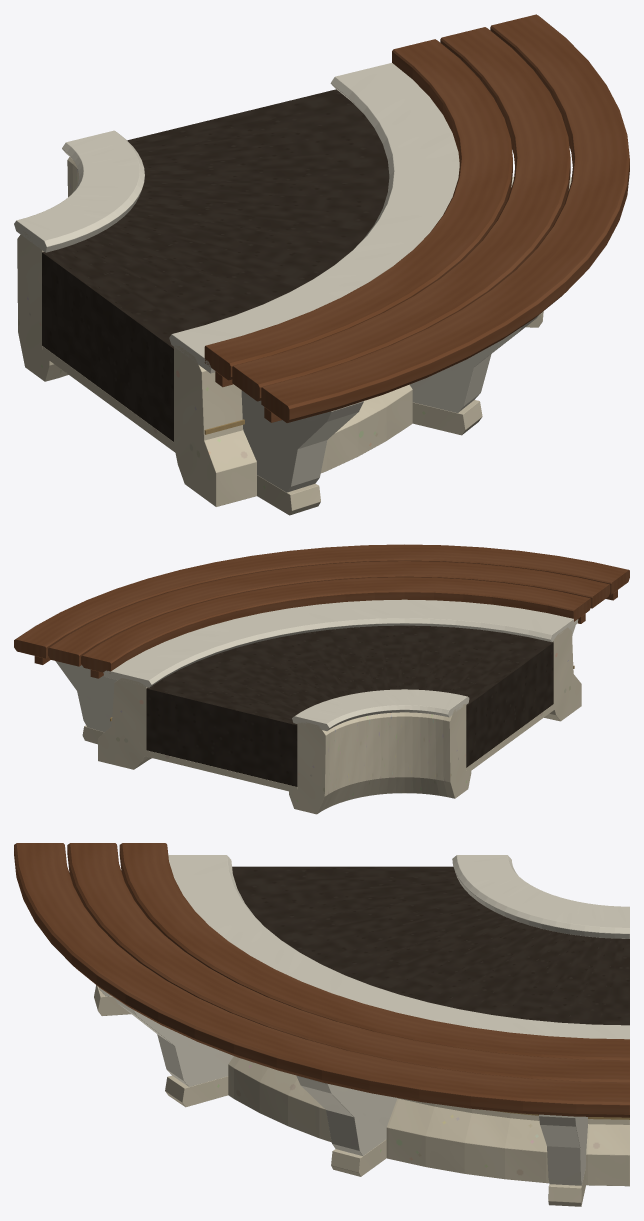
Rendered from AST-BOT-005.glb.
3 views of the same model, one above another, from view 1: azimuth 30°, elevation 25°; view 2: azimuth 150°, elevation 25°; view 3: azimuth 270°, elevation 25° (orthographic). The views are drawn at different scales.
Parts seen in each view (by area): view 1: ASTRAEA_planted_seat_warm_walnut, ASTRAEA_planted_seat_botanical_soil, ASTRAEA_planted_seat_ivory_enamel, ASTRAEA_planted_seat_warm_stone; view 2: ASTRAEA_planted_seat_botanical_soil, ASTRAEA_planted_seat_warm_walnut, ASTRAEA_planted_seat_warm_stone, ASTRAEA_planted_seat_ivory_enamel; view 3: ASTRAEA_planted_seat_warm_walnut, ASTRAEA_planted_seat_botanical_soil, ASTRAEA_planted_seat_ivory_enamel, ASTRAEA_planted_seat_warm_stone.
Boxes of the visible parts, bbox=[...] form: ASTRAEA_planted_seat_warm_walnut: bbox=[204, 14, 629, 422]; ASTRAEA_planted_seat_botanical_soil: bbox=[42, 89, 389, 441]; ASTRAEA_planted_seat_ivory_enamel: bbox=[14, 63, 571, 492]; ASTRAEA_planted_seat_warm_stone: bbox=[17, 157, 543, 515]; ASTRAEA_planted_seat_botanical_soil: bbox=[146, 625, 553, 786]; ASTRAEA_planted_seat_warm_walnut: bbox=[14, 544, 629, 678]; ASTRAEA_planted_seat_warm_stone: bbox=[82, 627, 581, 814]; ASTRAEA_planted_seat_ivory_enamel: bbox=[55, 599, 578, 732]; ASTRAEA_planted_seat_warm_walnut: bbox=[14, 843, 629, 1117]; ASTRAEA_planted_seat_botanical_soil: bbox=[232, 866, 629, 1025]; ASTRAEA_planted_seat_ivory_enamel: bbox=[99, 855, 629, 1185]; ASTRAEA_planted_seat_warm_stone: bbox=[94, 985, 629, 1206].
Size of the model in its own units: 1.89 by 0.47 by 1.89.
5 materials, 5 textured.
